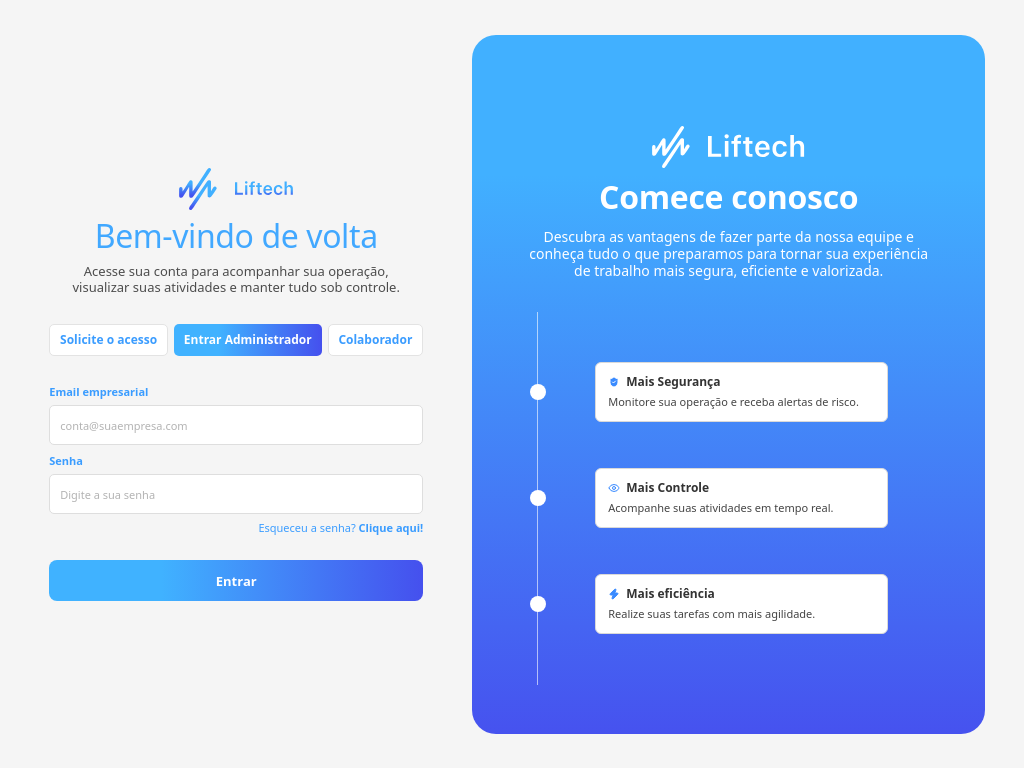
Test case: LoginPage › shows invalid-credentials on 401 and stays
Type "admin@empresa.com" into the field labelled "Email empresarial". click: (236, 425)
box: [49, 405, 423, 445]
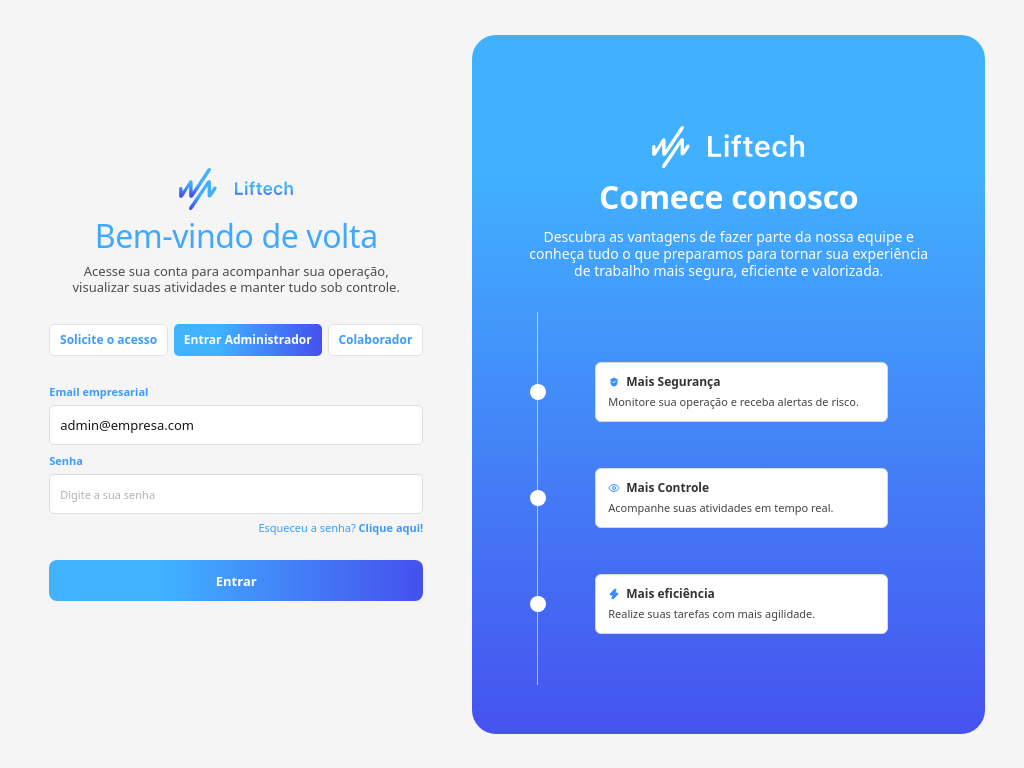
Type "errada" into the password field labelled "Senha". click: (236, 494)
box: [49, 474, 423, 514]
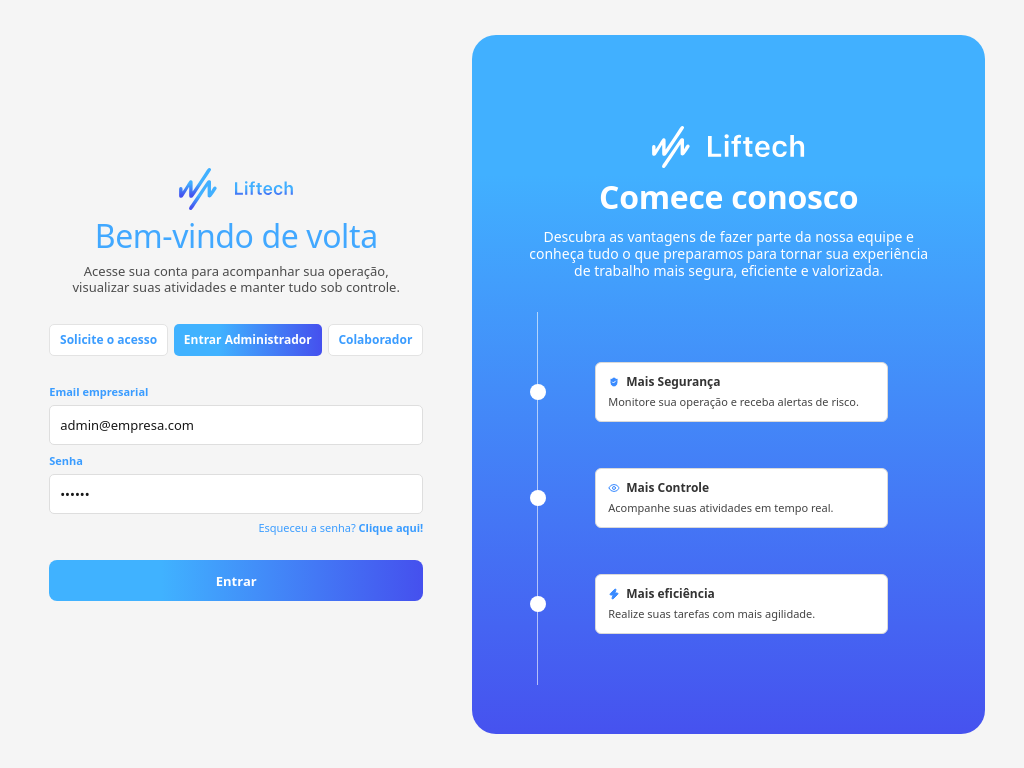
Click the button "Entrar". click: (236, 581)
box: [49, 560, 423, 602]
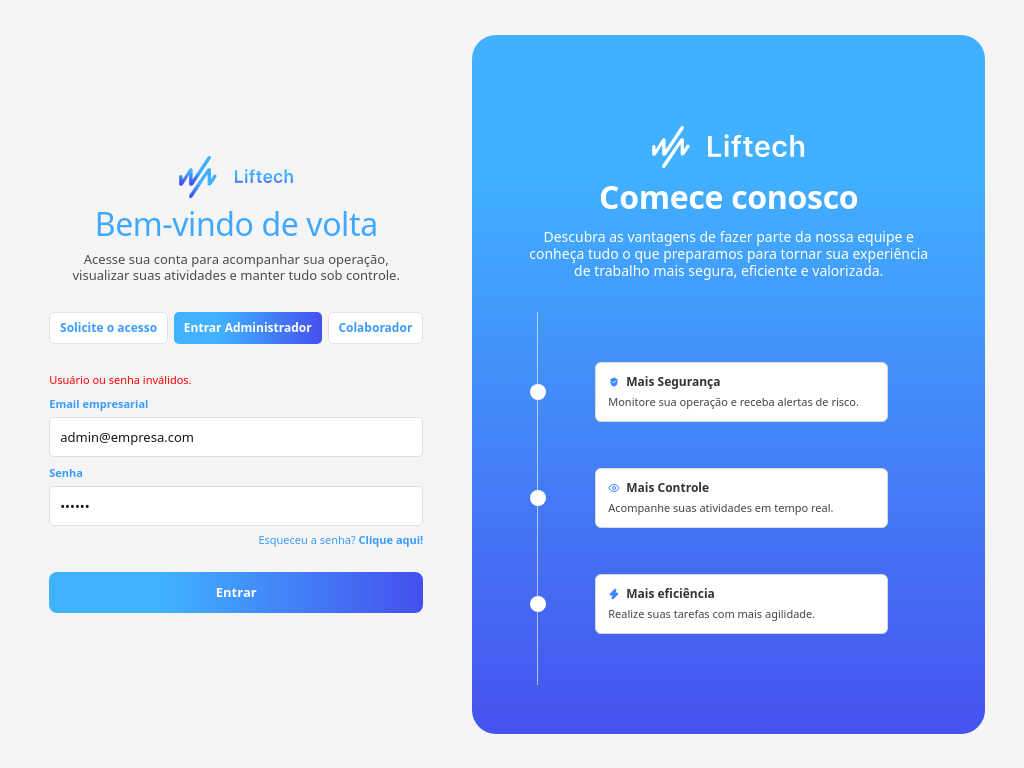
Result: the message reads "Usuário ou senha inválidos." at [49, 372, 192, 387]
